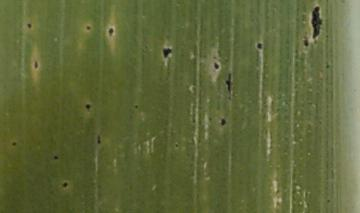tarspot: (309, 4, 323, 40), (161, 46, 172, 60), (225, 72, 232, 93), (301, 37, 310, 47), (83, 102, 91, 113), (212, 61, 220, 70), (33, 59, 39, 71), (107, 27, 114, 37), (255, 42, 263, 50), (84, 24, 92, 31), (62, 181, 69, 189), (96, 134, 101, 145), (325, 59, 330, 70), (220, 117, 225, 127), (25, 22, 32, 29), (10, 140, 17, 147), (324, 32, 331, 39), (52, 154, 59, 160), (173, 141, 179, 148), (133, 103, 138, 111), (326, 198, 331, 204)
